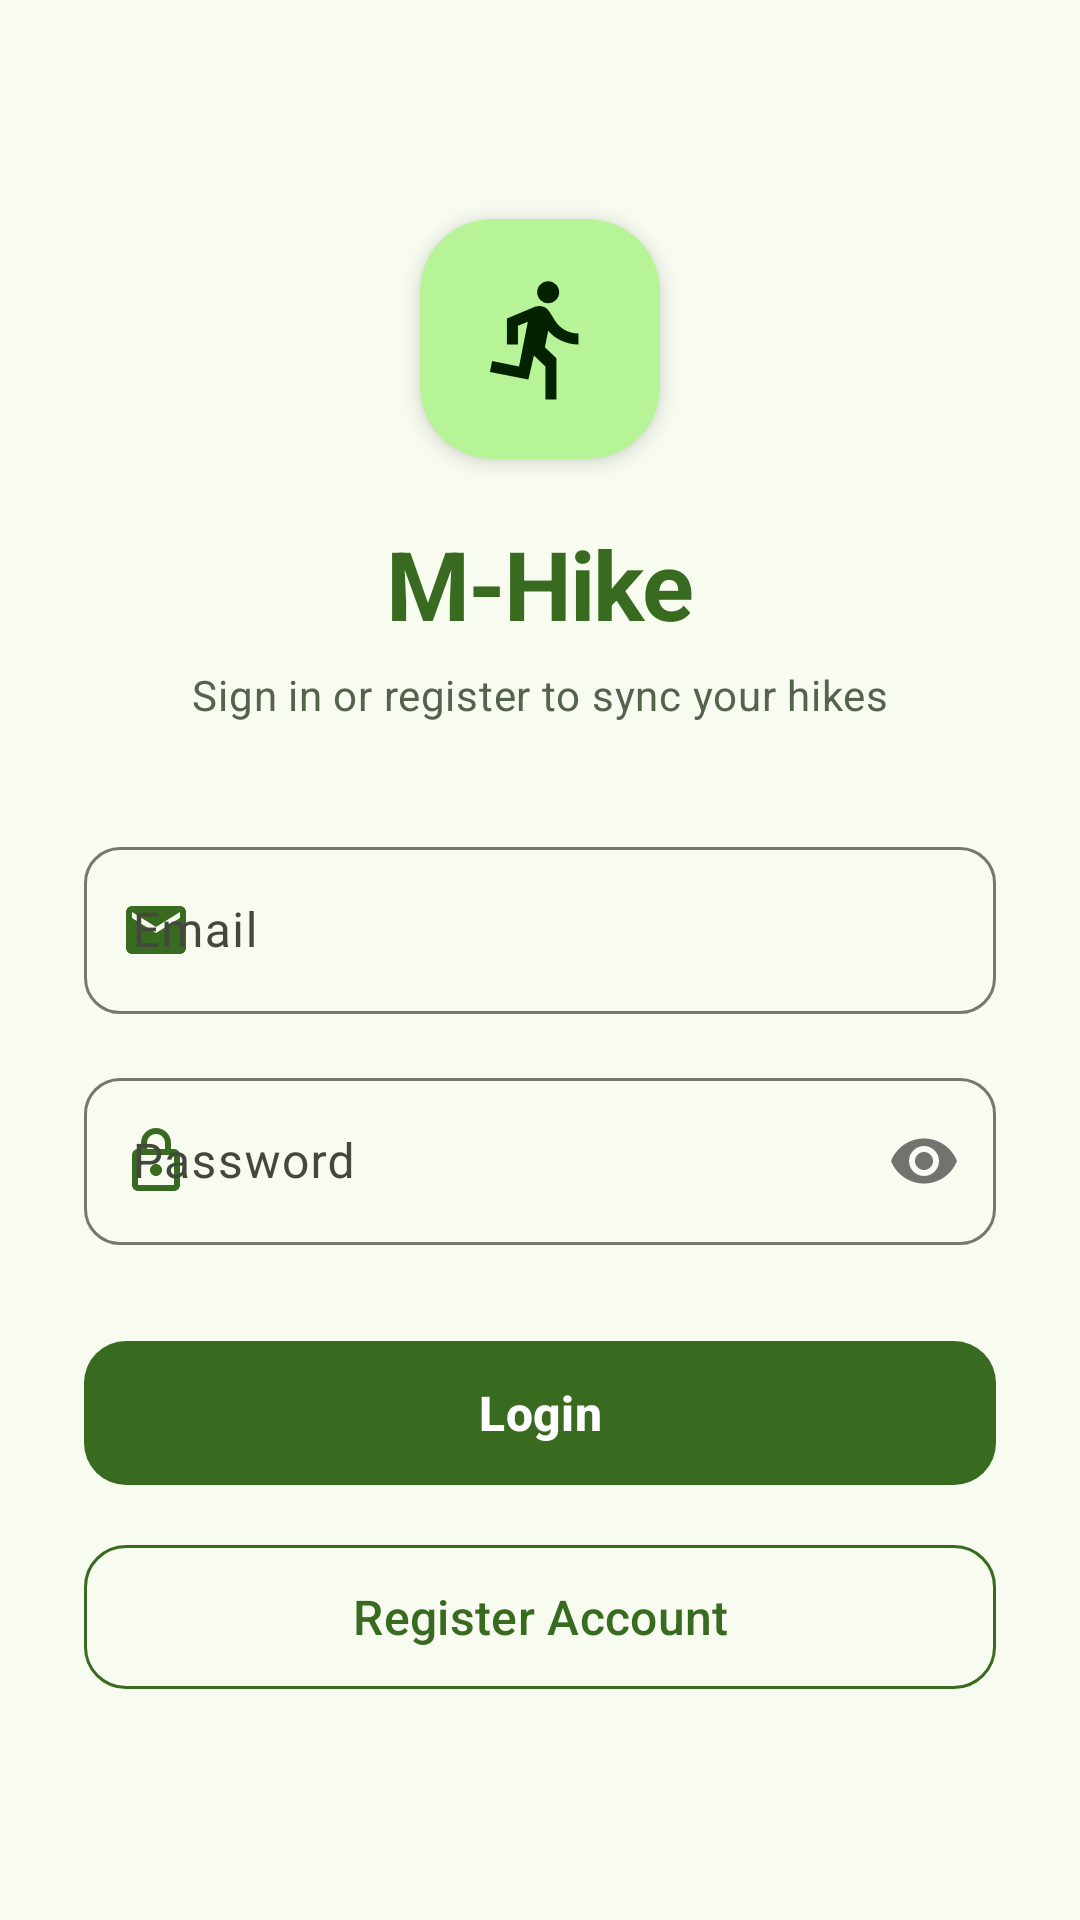

Named icons in this screenshot (1080 × 1920) and their bounding boxes, (x1, y1, x2, y2):
hiking: (490, 281, 579, 400)
